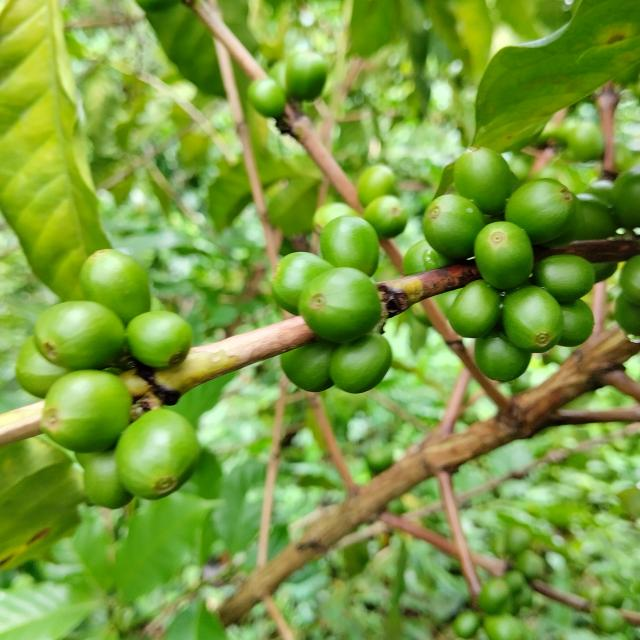green: (115, 409, 199, 500), (39, 370, 131, 453), (298, 267, 382, 343), (34, 301, 124, 371), (79, 249, 150, 324), (505, 178, 576, 244), (503, 285, 565, 353), (423, 194, 486, 260), (475, 221, 535, 290), (544, 193, 619, 248), (454, 147, 513, 215), (271, 252, 334, 315), (329, 333, 392, 394), (126, 311, 192, 368), (320, 216, 380, 276), (15, 336, 69, 398), (280, 340, 339, 393), (533, 255, 596, 304), (449, 280, 502, 338), (83, 451, 132, 510), (475, 333, 532, 382), (558, 299, 595, 347), (74, 453, 98, 469)
